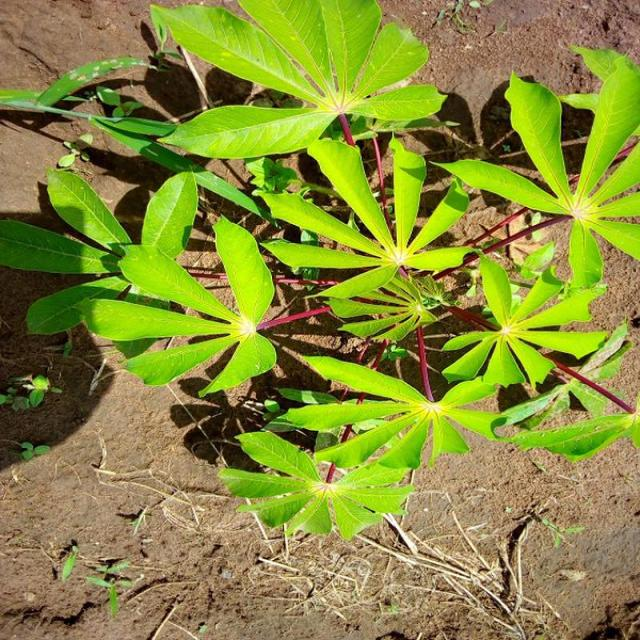cassava leaf: (1, 2, 638, 543), (148, 0, 448, 160)
